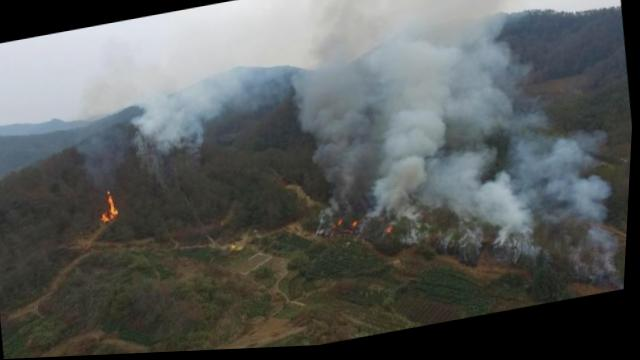fire: (301, 167, 441, 276), (77, 177, 143, 242)
